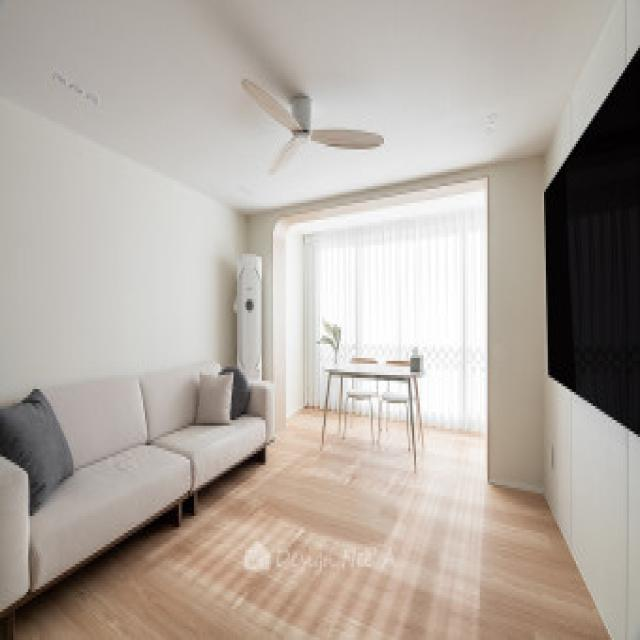Sofa: (10, 355, 277, 591)
Table: (317, 355, 429, 468)
tv: (541, 55, 639, 438)
window: (301, 230, 486, 411)
